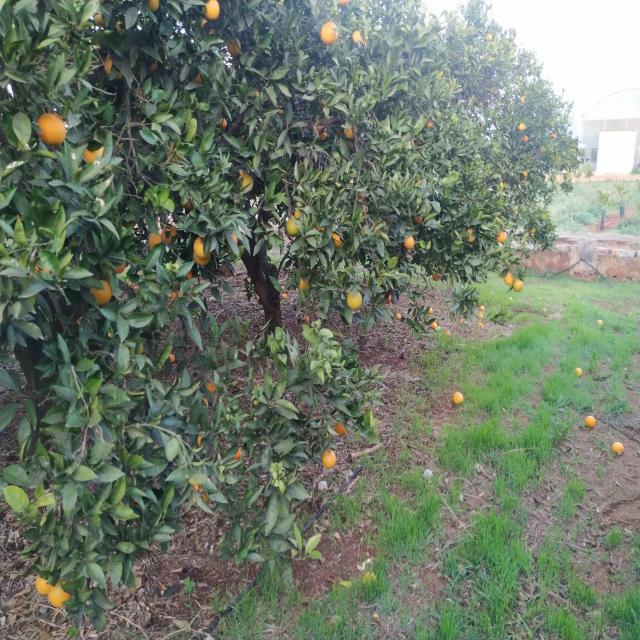Jeruk Belum Matang: (287, 218, 301, 238), (347, 292, 363, 309), (513, 280, 523, 292), (530, 228, 536, 234)
Jeruk Sudah Matang: (38, 112, 66, 146), (89, 278, 112, 306), (48, 581, 72, 607), (36, 575, 58, 597), (320, 21, 338, 46), (104, 57, 122, 81), (84, 146, 104, 163), (238, 173, 254, 194), (146, 232, 164, 250), (204, 0, 220, 20), (194, 237, 210, 257), (322, 450, 336, 470), (162, 226, 176, 244), (193, 252, 211, 266), (228, 37, 242, 55), (344, 125, 358, 139), (298, 276, 310, 292), (332, 232, 344, 248), (316, 125, 328, 141), (403, 236, 416, 249), (146, 0, 160, 12), (336, 422, 348, 435), (114, 261, 126, 273), (95, 14, 106, 27), (453, 392, 463, 406), (497, 230, 507, 244), (466, 229, 476, 243), (206, 382, 217, 393), (504, 274, 514, 286), (585, 416, 595, 428), (197, 431, 205, 446), (234, 446, 242, 459), (186, 270, 194, 282), (219, 118, 227, 129), (575, 368, 583, 378), (426, 119, 434, 128), (432, 273, 440, 282), (384, 294, 392, 302), (597, 318, 604, 326), (497, 182, 503, 190), (519, 124, 525, 132), (522, 134, 528, 142), (521, 95, 526, 104), (432, 322, 438, 329), (428, 308, 434, 314), (480, 305, 486, 311), (170, 354, 174, 363), (523, 170, 528, 177), (477, 313, 483, 318), (552, 133, 556, 139)
